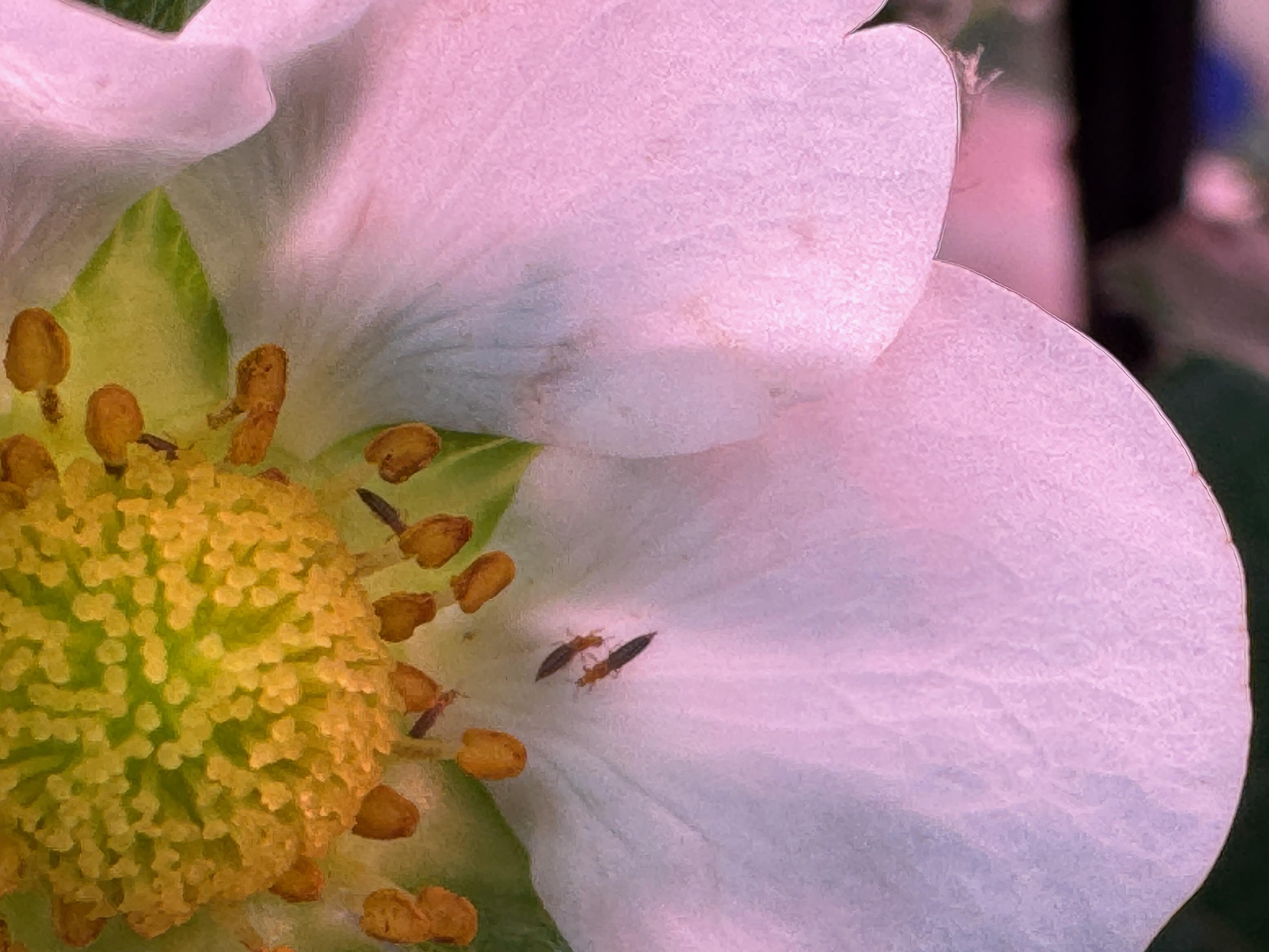tiny_pests: (569, 618, 667, 707), (393, 668, 481, 761), (518, 607, 607, 691), (350, 470, 428, 553)
